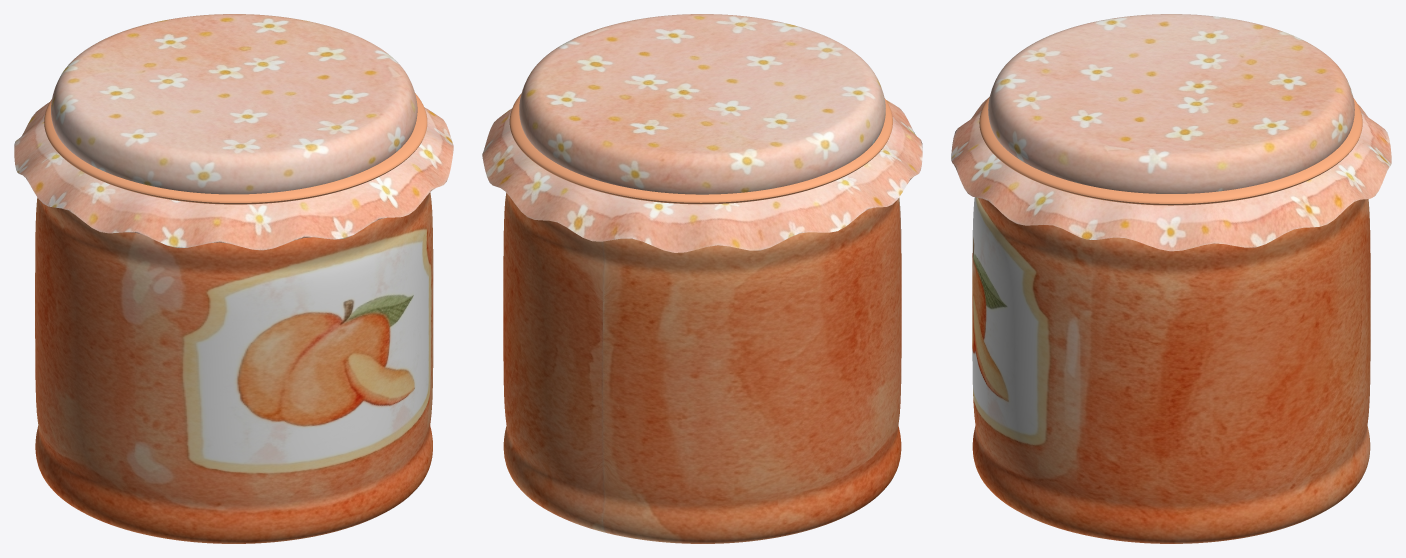
Rendered from JamJar(Final).fbx.
The picture shows the model from 3 angles, left to right: view 1: azimuth 30°, elevation 25°; view 2: azimuth 150°, elevation 25°; view 3: azimuth 270°, elevation 25°; orthographic projection.
Visible parts, largest first — view 1: Cylinder; view 2: Cylinder; view 3: Cylinder.
Part boxes in pixels (bbox=[...]): Cylinder: bbox=[14, 14, 453, 543]; Cylinder: bbox=[482, 14, 922, 543]; Cylinder: bbox=[951, 14, 1391, 543].
Size of the model in its own units: 2.1 by 2.04 by 2.1.
Materials: 2 (1 with a texture image).
